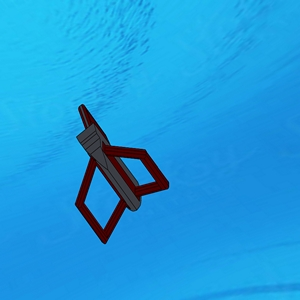submarine: (72, 104, 170, 247)
